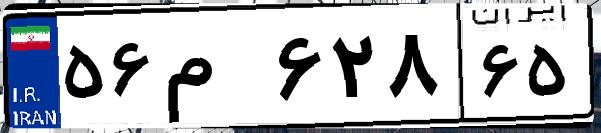2: (330, 28, 385, 110)
5: (57, 26, 110, 100), (525, 38, 570, 115)
6: (270, 28, 330, 110), (475, 38, 525, 113), (110, 28, 158, 98)
8: (385, 28, 445, 110)
م: (158, 20, 270, 120)
